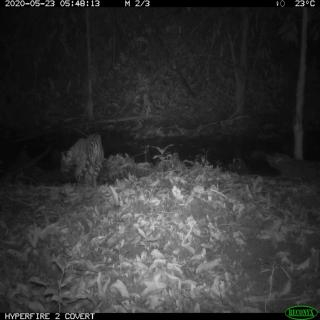Tiger: (59, 116, 112, 186)
